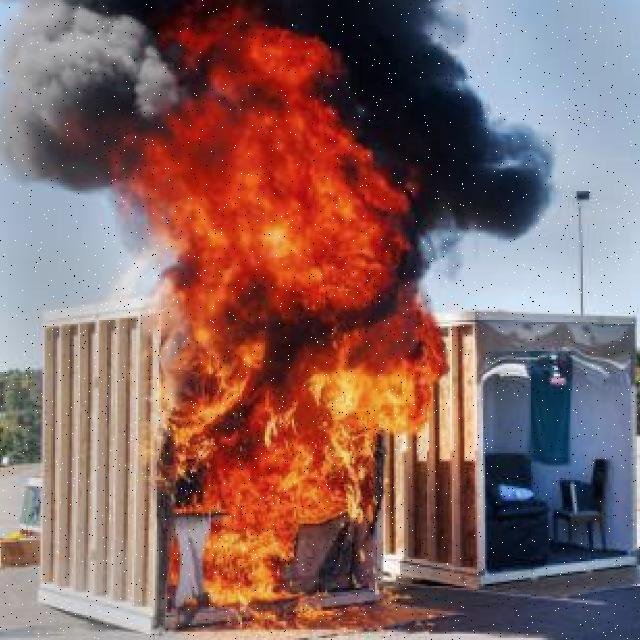fire: (144, 29, 440, 636)
smoke: (380, 0, 583, 247)
